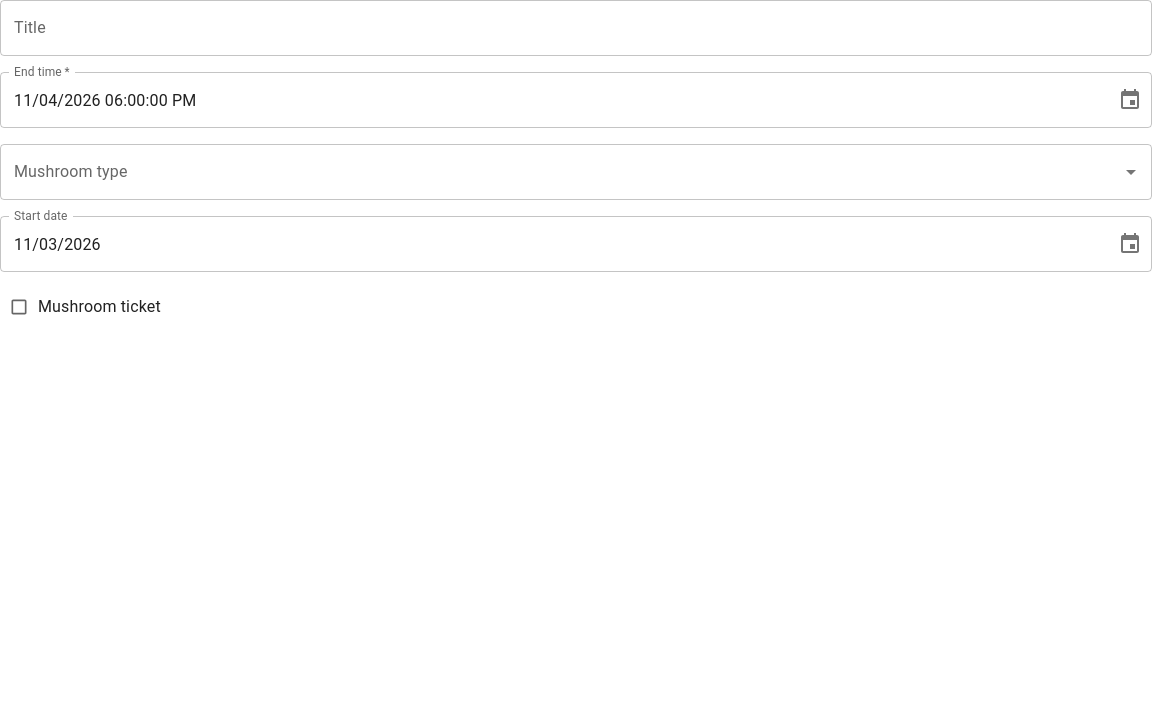
Test: disables start days after the end date in the calendar
This screenshot has width=1152, height=720.
Click the button named "Choose date, selected date is Nov 3, 2026" at (1130, 244), box [1110,224,1150,264]
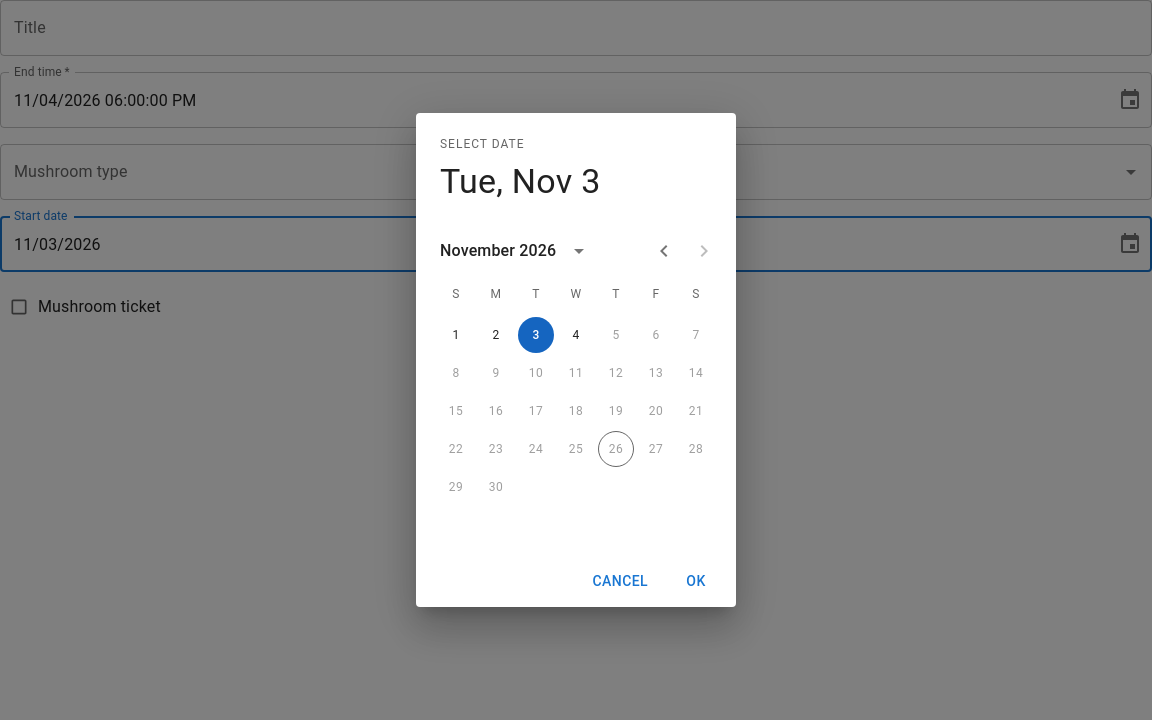
Check: the cell "5" is disabled, box [598,317,634,353]
Check: the cell "4" is enabled, box [558,317,594,353]
